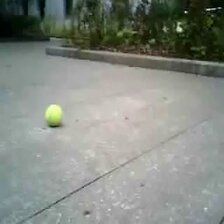tennis: (44, 104, 62, 124)
